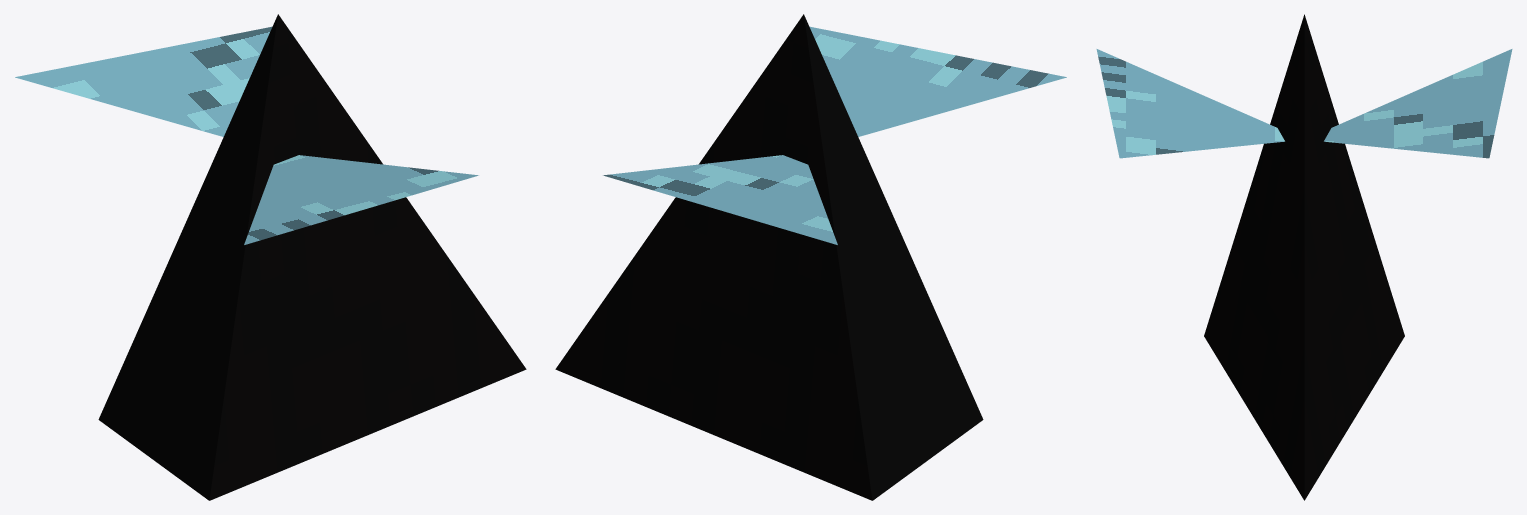
Rendered from mosquitos.glb.
3 renders of one model, left to right at view 1: azimuth 30°, elevation 25°; view 2: azimuth 150°, elevation 25°; view 3: azimuth 270°, elevation 25°, orthographic. The views are drawn at different scales.
Visible parts, largest first — view 1: cuerpo, alas; view 2: cuerpo, alas; view 3: cuerpo, alas.
Part boxes in pixels (box(x1,y1,x2,y2)): cuerpo: box(98, 14, 526, 500); alas: box(15, 26, 478, 244); cuerpo: box(555, 14, 983, 500); alas: box(603, 26, 1066, 244); cuerpo: box(1204, 14, 1404, 500); alas: box(1096, 49, 1512, 158).
Size of the model in its own units: 0.01 by 0.01 by 0.01.
Materials: 1 (1 with a texture image).
